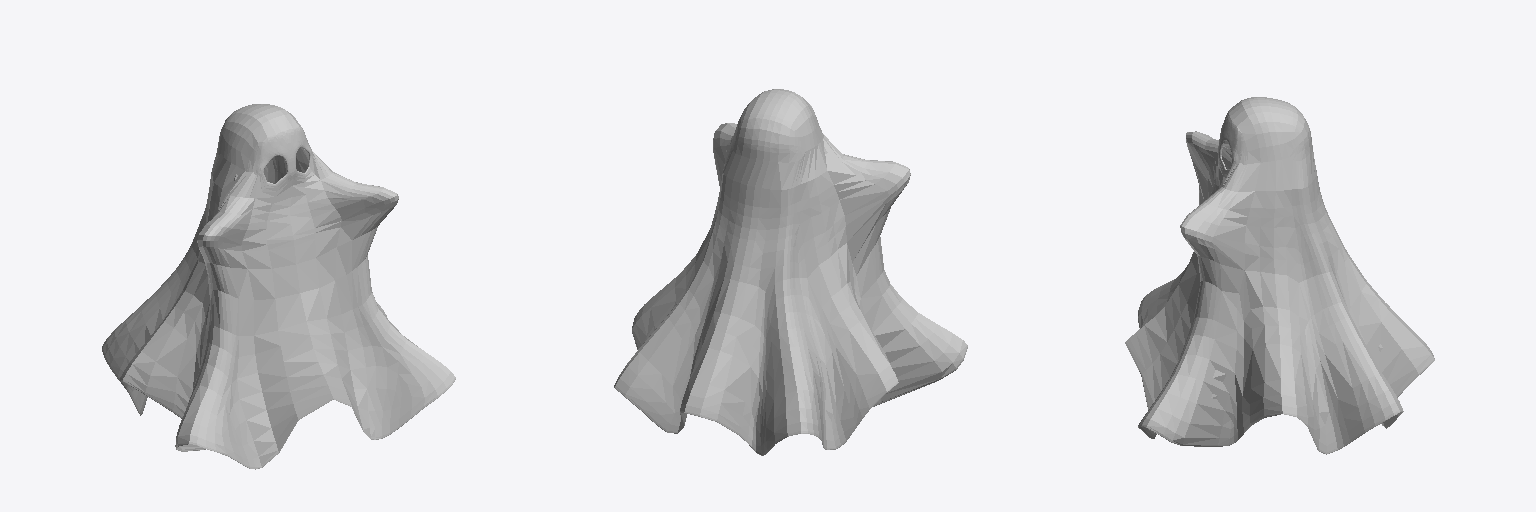
3 renders of one model, left to right at view 1: azimuth 30°, elevation 25°; view 2: azimuth 150°, elevation 25°; view 3: azimuth 270°, elevation 25°, orthographic.
Visible parts, largest first — view 1: youlinguu2:Group3 walk1; view 2: youlinguu2:Group3 walk1; view 3: youlinguu2:Group3 walk1.
Part boxes in pixels (left/top/right/bottom): youlinguu2:Group3 walk1: left=102, top=104, right=455, bottom=469; youlinguu2:Group3 walk1: left=614, top=89, right=967, bottom=455; youlinguu2:Group3 walk1: left=1125, top=97, right=1434, bottom=454.
Bounding box in the file's own units: 36.48 × 39.25 × 35.79.